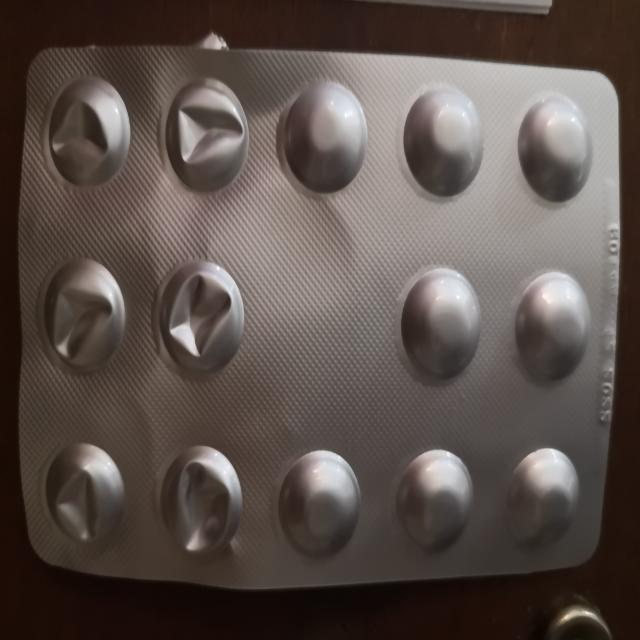Empty: (151, 254, 246, 385), (161, 71, 254, 201), (38, 74, 134, 195), (159, 433, 245, 568), (38, 250, 129, 376), (39, 432, 127, 555)
Pill: (394, 257, 484, 392), (278, 71, 368, 201), (398, 73, 487, 202), (271, 441, 364, 564), (516, 86, 598, 208), (514, 262, 592, 388), (391, 445, 478, 557), (505, 439, 581, 561)
